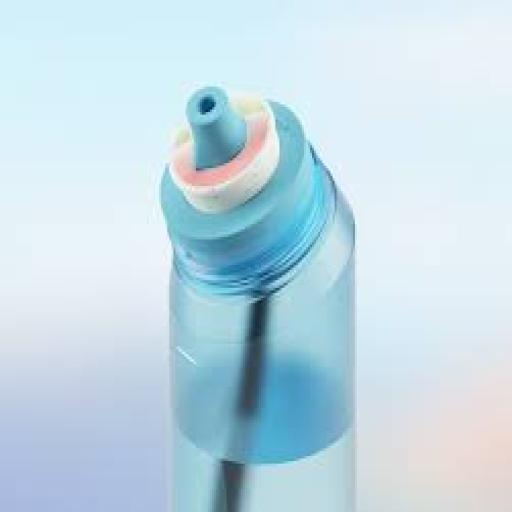blue-bottle: (161, 87, 353, 509)
